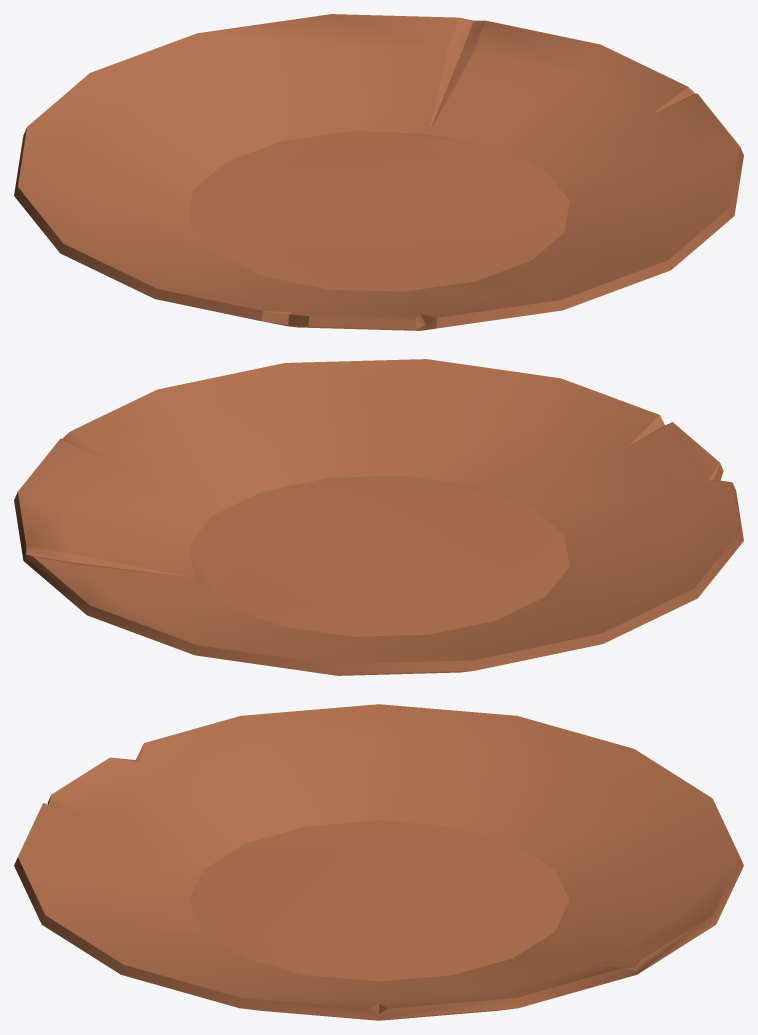
The model's file is obj_plateRound_B.FBX.
3 views of the same model, one above another, from view 1: azimuth 30°, elevation 25°; view 2: azimuth 150°, elevation 25°; view 3: azimuth 270°, elevation 25° (orthographic).
Visible parts, largest first — view 1: obj_plateRound_B; view 2: obj_plateRound_B; view 3: obj_plateRound_B.
Boxes of the visible parts, x1,y1,x2,y2 form: obj_plateRound_B: [14, 14, 743, 330]; obj_plateRound_B: [14, 359, 743, 675]; obj_plateRound_B: [14, 704, 743, 1020].
Bounding box in the file's own units: 1.33 × 0.1165 × 1.33.
